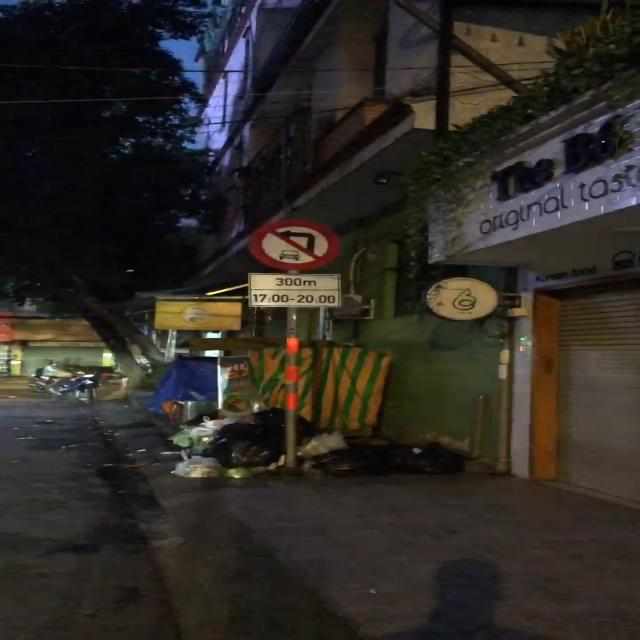Bien bao cam xe o to re trai: (245, 221, 348, 273)
